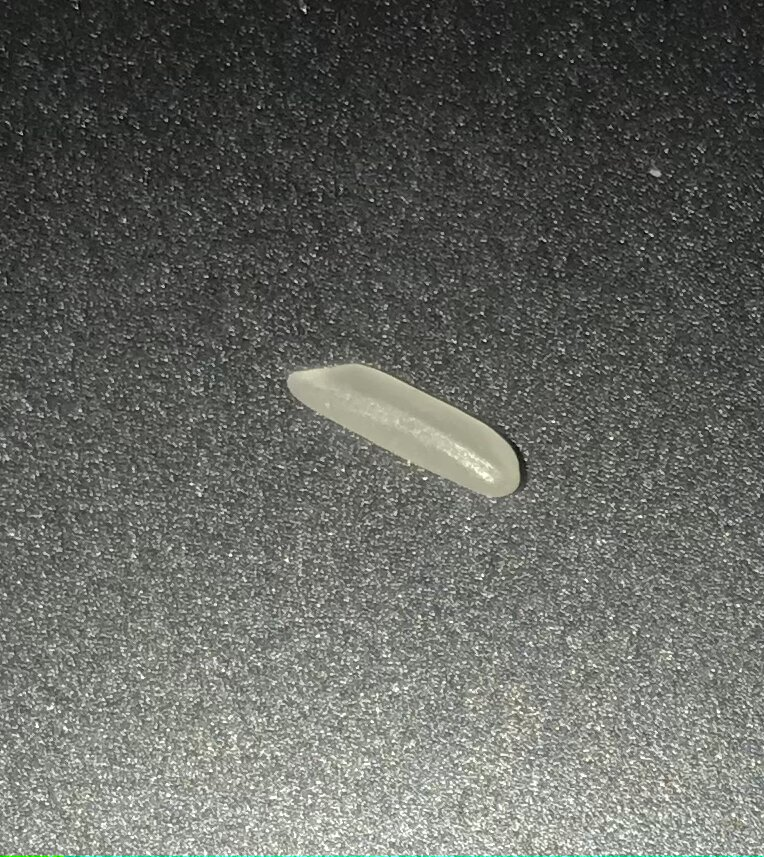Gao Long Lai: (282, 351, 530, 501)
